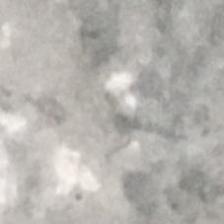Non_Crack: (16, 13, 216, 224)
